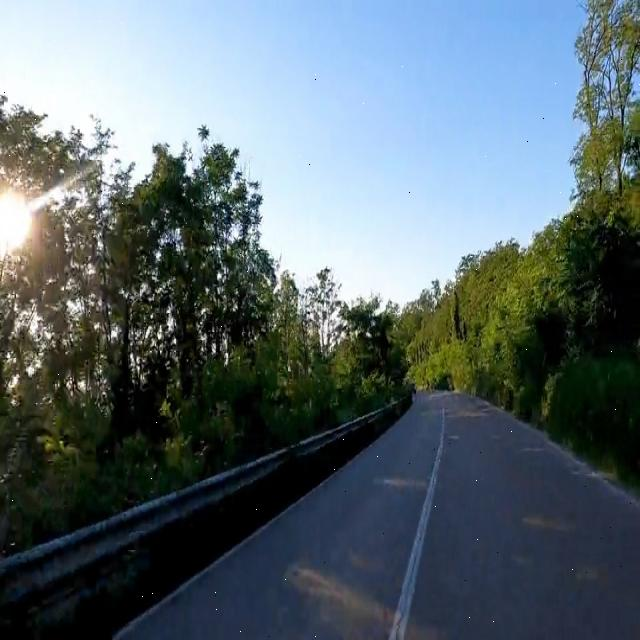lane: (389, 407, 444, 639)
road: (117, 392, 639, 638)
